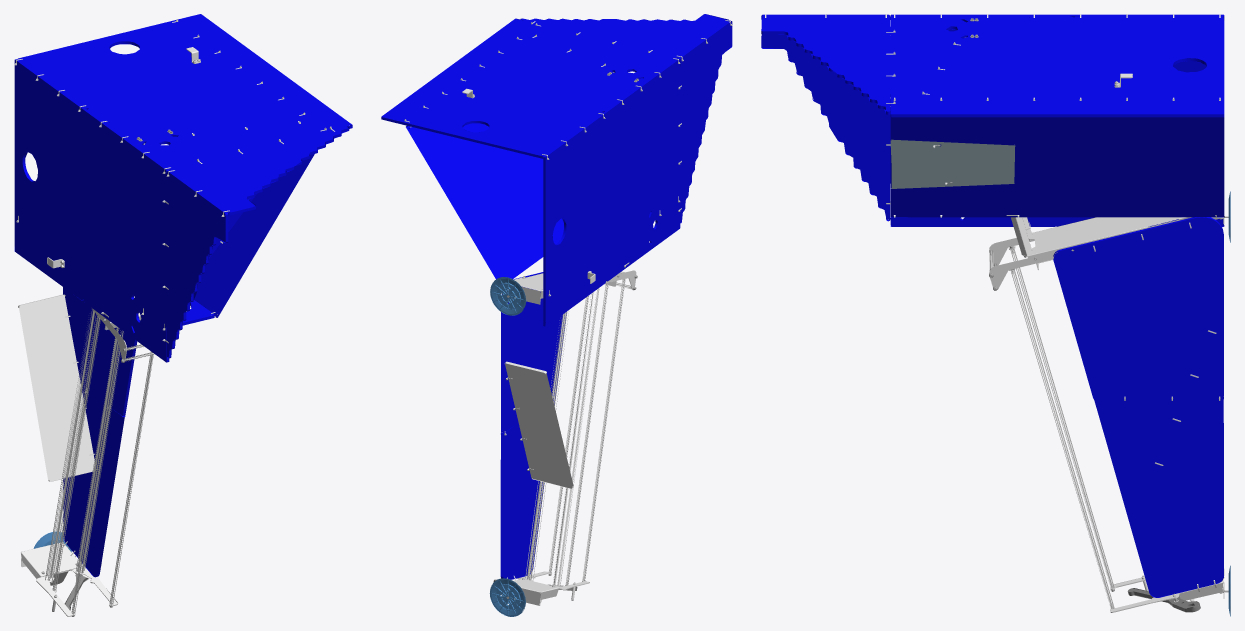
File: blue-goal.glb
The picture shows the model from 3 angles, left to right: view 1: azimuth 30°, elevation 25°; view 2: azimuth 150°, elevation 25°; view 3: azimuth 270°, elevation 25°; orthographic projection. The views are drawn at different scales.
Visible parts, largest first — view 1: Lower Ramp Blocker, Blue - am-5731_blue, Cable Tie 1 - Cable Tie 11 in. - am-1631_natural; view 2: Lower Ramp Blocker, Blue - am-5731_blue, Cable Tie 1 - Cable Tie 11 in. - am-1631_natural, Molded Under Tile Disk - am-5422; view 3: Lower Ramp Blocker, Blue - am-5731_blue, Cable Tie 1 - Cable Tie 11 in. - am-1631_natural, Blue Goal AprilTag Sticker - am-5707_id20.
Part boxes in pixels (x1=…): Lower Ramp Blocker, Blue - am-5731_blue: x1=14, y1=14, x2=352, y2=577; Cable Tie 1 - Cable Tie 11 in. - am-1631_natural: x1=14, y1=19, x2=334, y2=616; Lower Ramp Blocker, Blue - am-5731_blue: x1=381, y1=14, x2=732, y2=579; Cable Tie 1 - Cable Tie 11 in. - am-1631_natural: x1=404, y1=20, x2=732, y2=605; Molded Under Tile Disk - am-5422: x1=489, y1=277, x2=526, y2=616; Lower Ramp Blocker, Blue - am-5731_blue: x1=761, y1=14, x2=1224, y2=597; Cable Tie 1 - Cable Tie 11 in. - am-1631_natural: x1=765, y1=14, x2=1224, y2=612; Blue Goal AprilTag Sticker - am-5707_id20: x1=890, y1=139, x2=1015, y2=188.
Bounding box in the file's own units: 0.7301 × 1.92 × 1.38.
